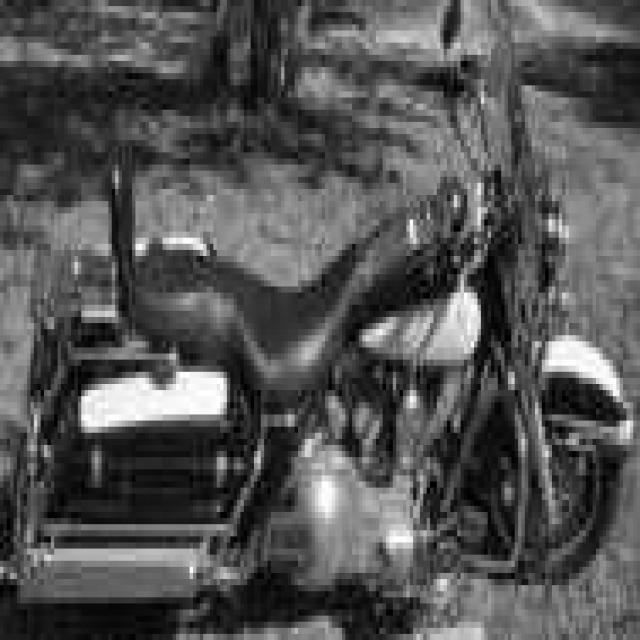Motorcycle: (10, 70, 633, 632)
